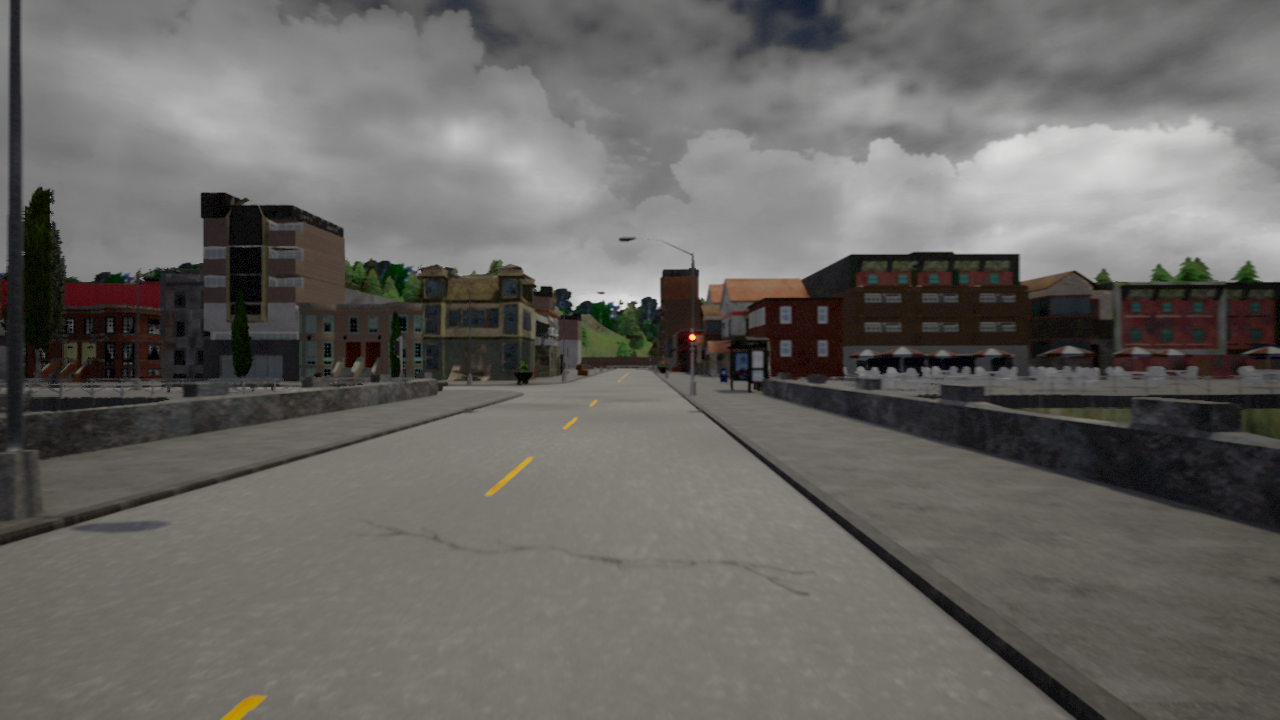red: (688, 332, 697, 353)
